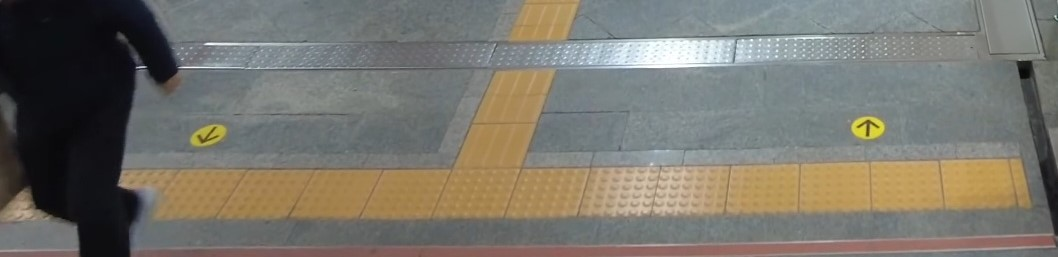guideBlock: (482, 93, 548, 135), (468, 121, 526, 164), (512, 6, 573, 41), (493, 68, 548, 95)
warningBlock: (939, 159, 1030, 213), (507, 166, 599, 218), (796, 162, 885, 215), (153, 172, 251, 220), (730, 160, 798, 226), (365, 169, 451, 217), (860, 160, 948, 206), (437, 165, 520, 211), (220, 171, 309, 212), (594, 166, 668, 212), (306, 166, 389, 207), (649, 167, 730, 208)
